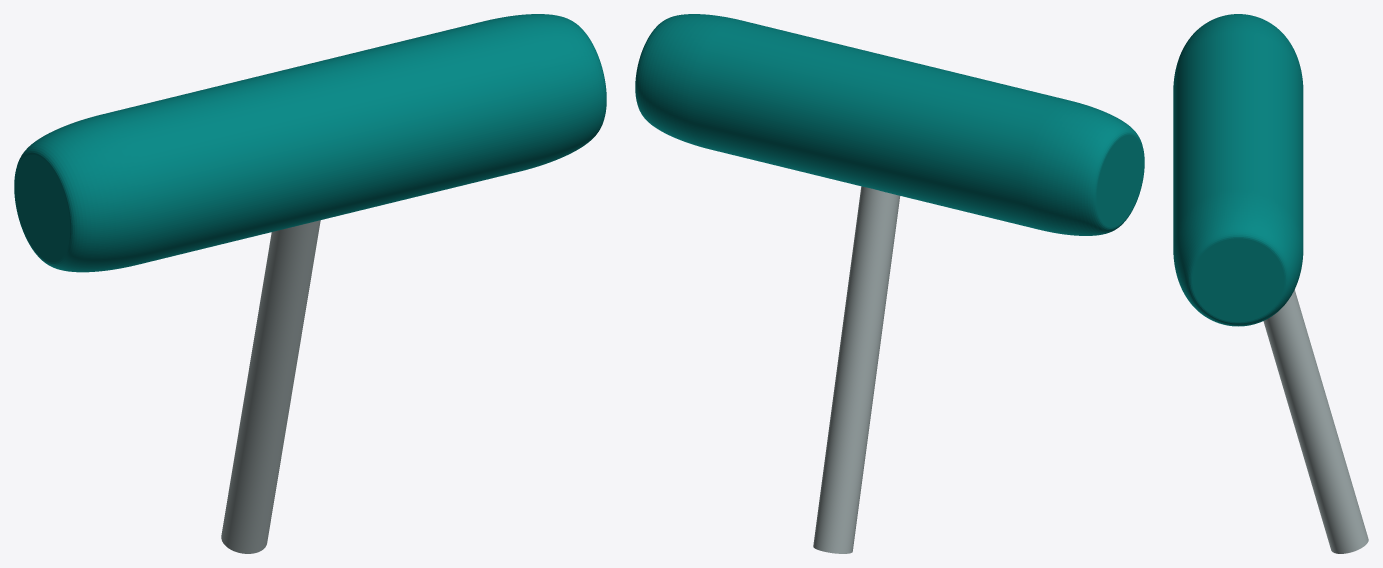
The model's file is Lever_Petronas2.glb.
3 views of the same model, side by side, from view 1: azimuth 30°, elevation 25°; view 2: azimuth 150°, elevation 25°; view 3: azimuth 270°, elevation 25° (orthographic). The views are drawn at different scales.
Visible parts, largest first — view 1: Lever Top, Lever Body; view 2: Lever Top, Lever Body; view 3: Lever Top, Lever Body.
Part boxes in pixels (x1,y1,x2,y2): Lever Top: [14, 14, 606, 272]; Lever Body: [221, 220, 320, 553]; Lever Top: [635, 14, 1144, 235]; Lever Body: [813, 186, 900, 553]; Lever Top: [1173, 14, 1303, 326]; Lever Body: [1263, 290, 1368, 553].
Size of the model in its own units: 0.2 by 0.1856 by 0.0751.
